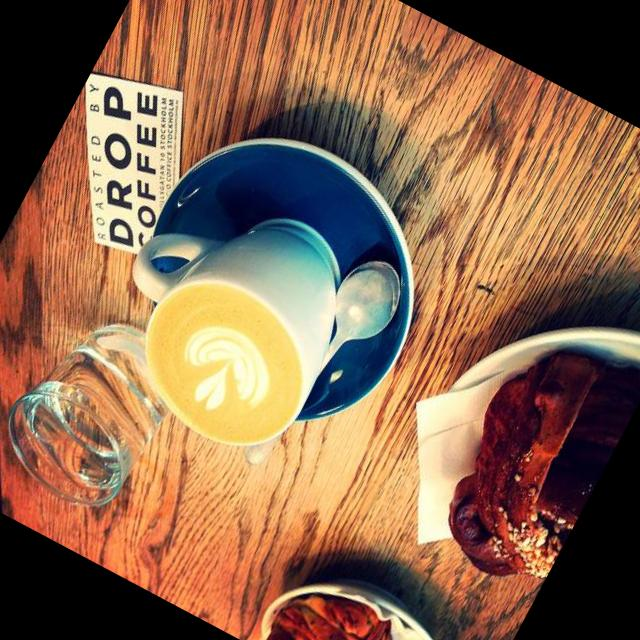cup: (74, 158, 383, 470), (0, 290, 198, 524)
diningtable: (0, 0, 640, 640)
spoon: (298, 248, 410, 390)
